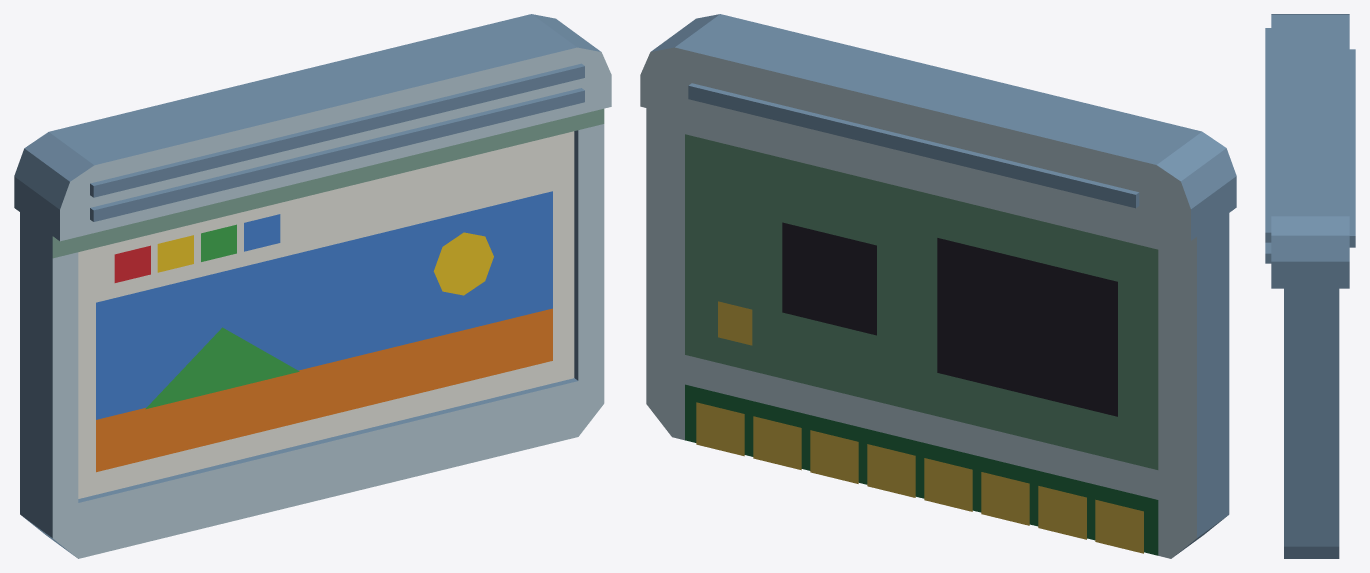
Rendered from wswanc.obj.
The picture shows the model from 3 angles, left to right: view 1: azimuth 30°, elevation 25°; view 2: azimuth 150°, elevation 25°; view 3: azimuth 270°, elevation 25°; orthographic projection. The views are drawn at different scales.
Parts seen in each view (by area): view 1: wswanc; view 2: wswanc; view 3: wswanc.
Part boxes in pixels (x1,y1,x2,y2): wswanc: [14, 14, 611, 558]; wswanc: [640, 14, 1236, 558]; wswanc: [1265, 14, 1355, 558].
Bounding box in the file's own units: 6.4 × 4.4 × 1.06.
